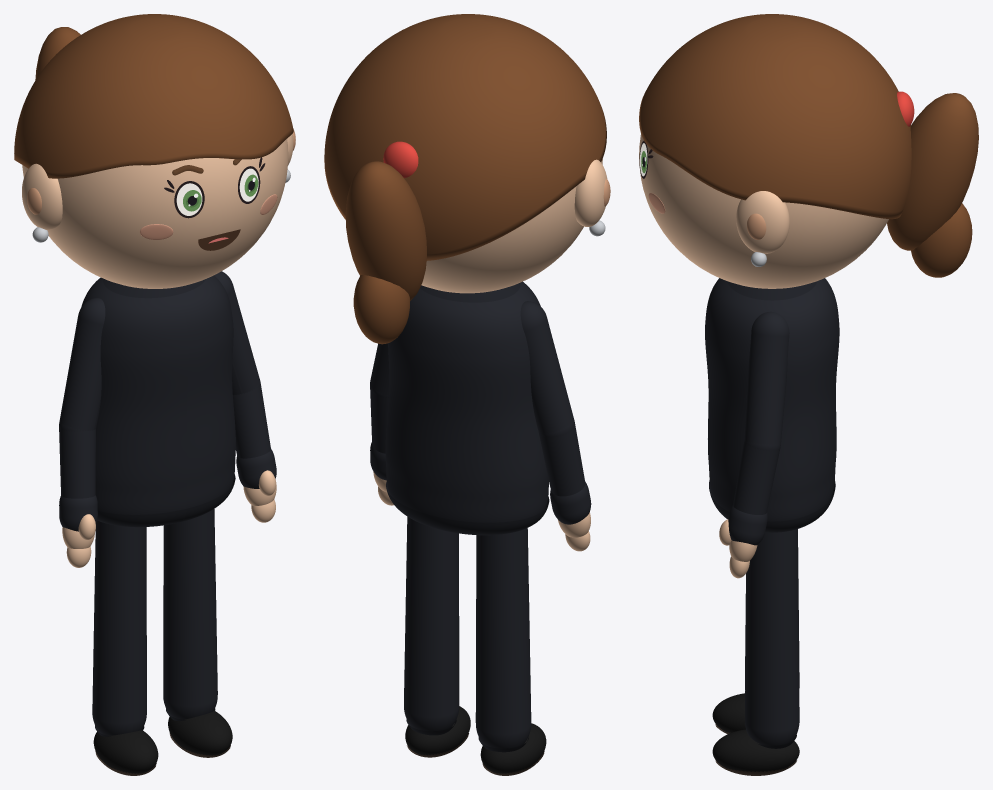
File: mama_zwart.glb
3 views of the same model, side by side, from view 1: azimuth 30°, elevation 25°; view 2: azimuth 150°, elevation 25°; view 3: azimuth 270°, elevation 25° (orthographic).
Parts seen in each view (by area): view 1: mama_zwart_haar, mama_zwart_romp, mama_zwart_hoofd, mama_zwart_been_R, mama_zwart_been_L, mama_zwart_bovenarm_R, mama_zwart_onderarm_R, mama_zwart_schoen_R, mama_zwart_onderarm_L, mama_zwart_schoen_L, mama_zwart_bovenarm_L, mama_zwart_oor_R (+6 smaller); view 2: mama_zwart_haar, mama_zwart_romp, mama_zwart_been_R, mama_zwart_been_L, mama_zwart_staart, mama_zwart_hoofd, mama_zwart_bovenarm_R, mama_zwart_staart_punt, mama_zwart_onderarm_R, mama_zwart_romp_boord, mama_zwart_schoen_R, mama_zwart_oor_R (+6 smaller); view 3: mama_zwart_haar, mama_zwart_romp, mama_zwart_hoofd, mama_zwart_been_L, mama_zwart_staart, mama_zwart_bovenarm_L, mama_zwart_staart_punt, mama_zwart_schoen_L, mama_zwart_onderarm_L, mama_zwart_oor_L, mama_zwart_manchet_L, mama_zwart_schoen_R (+2 smaller).
Boxes of the visible parts, x1=… form: mama_zwart_haar: x1=14, y1=14, x2=293, y2=178; mama_zwart_romp: x1=81, y1=275, x2=235, y2=514; mama_zwart_hoofd: x1=22, y1=139, x2=288, y2=288; mama_zwart_been_R: x1=92, y1=520, x2=146, y2=735; mama_zwart_been_L: x1=163, y1=509, x2=217, y2=719; mama_zwart_bovenarm_R: x1=59, y1=298, x2=105, y2=431; mama_zwart_onderarm_R: x1=59, y1=424, x2=95, y2=498; mama_zwart_schoen_R: x1=93, y1=730, x2=158, y2=773; mama_zwart_onderarm_L: x1=233, y1=383, x2=270, y2=458; mama_zwart_schoen_L: x1=168, y1=710, x2=232, y2=755; mama_zwart_bovenarm_L: x1=214, y1=271, x2=259, y2=395; mama_zwart_oor_R: x1=22, y1=163, x2=62, y2=230; mama_zwart_haar: x1=324, y1=14, x2=606, y2=260; mama_zwart_romp: x1=385, y1=281, x2=548, y2=522; mama_zwart_been_R: x1=475, y1=528, x2=531, y2=748; mama_zwart_been_L: x1=404, y1=516, x2=459, y2=731; mama_zwart_staart: x1=345, y1=161, x2=426, y2=300; mama_zwart_hoofd: x1=421, y1=159, x2=602, y2=293; mama_zwart_bovenarm_R: x1=520, y1=301, x2=574, y2=437; mama_zwart_staart_punt: x1=353, y1=275, x2=409, y2=344; mama_zwart_onderarm_R: x1=539, y1=423, x2=585, y2=496; mama_zwart_romp_boord: x1=386, y1=481, x2=549, y2=535; mama_zwart_schoen_R: x1=480, y1=723, x2=546, y2=773; mama_zwart_oor_R: x1=574, y1=159, x2=607, y2=226; mama_zwart_haar: x1=639, y1=14, x2=911, y2=219; mama_zwart_romp: x1=705, y1=278, x2=839, y2=521; mama_zwart_hoofd: x1=639, y1=134, x2=888, y2=288; mama_zwart_been_L: x1=745, y1=529, x2=799, y2=745; mama_zwart_staart: x1=887, y1=93, x2=978, y2=250; mama_zwart_bovenarm_L: x1=744, y1=311, x2=789, y2=450; mama_zwart_staart_punt: x1=911, y1=203, x2=972, y2=277; mama_zwart_schoen_L: x1=712, y1=729, x2=799, y2=771; mama_zwart_onderarm_L: x1=733, y1=440, x2=779, y2=514; mama_zwart_oor_L: x1=736, y1=191, x2=789, y2=253; mama_zwart_manchet_L: x1=728, y1=505, x2=767, y2=545; mama_zwart_schoen_R: x1=712, y1=693, x2=745, y2=733.
Size of the model in its own units: 0.668 by 1.75 by 0.7425.
